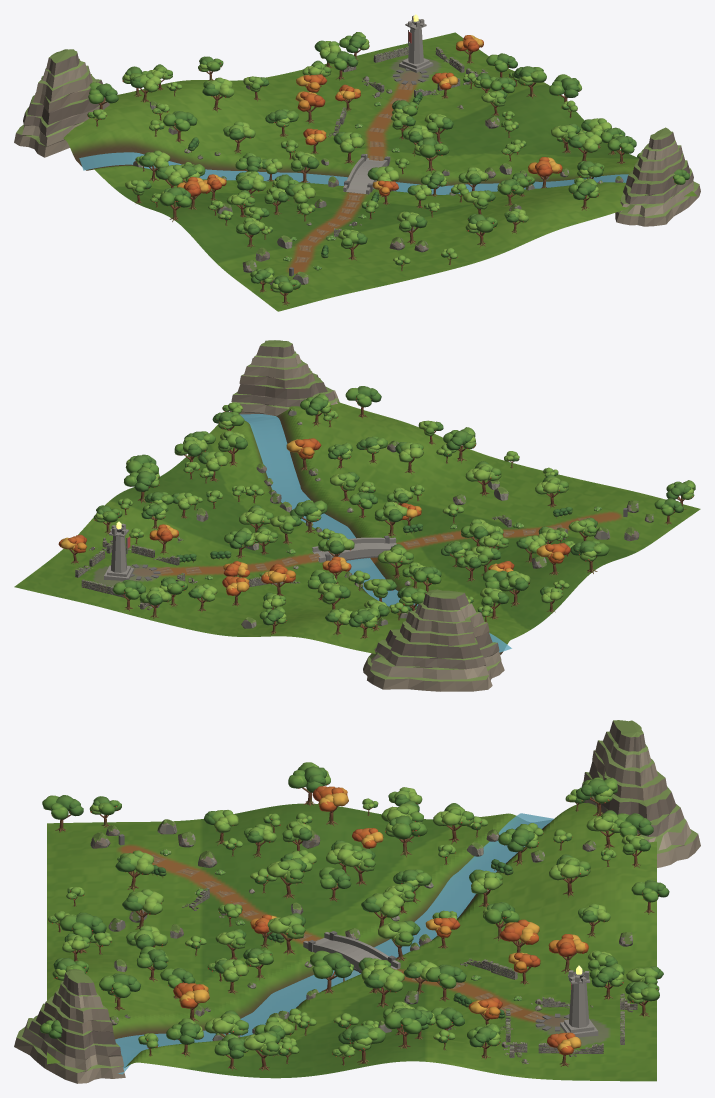
3 views of the same model, one above another, from view 1: azimuth 30°, elevation 25°; view 2: azimuth 150°, elevation 25°; view 3: azimuth 270°, elevation 25° (orthographic). The views are drawn at different scales.
Parts seen in each view (by area): view 1: Terrain, mountain_cliff_chunk_192, mountain_cliff_chunk_193, Stream_Water, Beacon_Tower, Bridge_Deck, apple_tree_mature_b_048, apple_tree_mature_b_129, apple_tree_mature_081, apple_tree_mature_b_110, apple_tree_mature_b_128, apple_tree_mature_b_070 (+20 smaller); view 2: Terrain, mountain_cliff_chunk_192, mountain_cliff_chunk_193, Stream_Water, Bridge_Deck, Beacon_Tower, apple_tree_mature_b_101, apple_tree_mature_b_048, apple_tree_mature_b_128, apple_tree_mature_b_110, apple_tree_mature_089, apple_tree_mature_087 (+11 smaller); view 3: Terrain, mountain_cliff_chunk_192, mountain_cliff_chunk_193, Stream_Water, Beacon_Tower, Bridge_Deck, apple_tree_mature_b_110, apple_tree_mature_b_048, apple_tree_mature_b_128, apple_tree_mature_b_129, apple_tree_mature_b_051, apple_tree_mature_089 (+42 smaller).
Boxes of the visible parts, bbox=[...] form: Terrain: bbox=[63, 32, 697, 311]; mountain_cliff_chunk_192: bbox=[14, 49, 109, 157]; mountain_cliff_chunk_193: bbox=[615, 127, 700, 226]; Stream_Water: bbox=[79, 152, 628, 194]; Beacon_Tower: bbox=[399, 15, 433, 72]; Bridge_Deck: bbox=[343, 154, 390, 194]; apple_tree_mature_b_048: bbox=[159, 187, 191, 221]; apple_tree_mature_b_129: bbox=[549, 74, 581, 108]; apple_tree_mature_081: bbox=[202, 77, 234, 112]; apple_tree_mature_b_110: bbox=[413, 137, 449, 172]; apple_tree_mature_b_128: bbox=[513, 66, 546, 98]; apple_tree_mature_b_070: bbox=[163, 111, 197, 143]; Terrain: bbox=[14, 401, 700, 654]; mountain_cliff_chunk_192: bbox=[363, 589, 504, 691]; mountain_cliff_chunk_193: bbox=[230, 340, 339, 417]; Stream_Water: bbox=[239, 414, 511, 652]; Bridge_Deck: bbox=[312, 537, 396, 562]; Beacon_Tower: bbox=[104, 523, 133, 580]; apple_tree_mature_b_101: bbox=[443, 427, 476, 462]; apple_tree_mature_b_048: bbox=[570, 540, 609, 573]; apple_tree_mature_b_128: bbox=[124, 467, 159, 502]; apple_tree_mature_b_110: bbox=[290, 500, 327, 533]; apple_tree_mature_089: bbox=[465, 461, 501, 496]; apple_tree_mature_087: bbox=[377, 544, 413, 579]; Terrain: bbox=[47, 803, 656, 1081]; mountain_cliff_chunk_192: bbox=[581, 720, 700, 867]; mountain_cliff_chunk_193: bbox=[14, 969, 125, 1083]; Stream_Water: bbox=[115, 813, 553, 1074]; Beacon_Tower: bbox=[560, 970, 598, 1037]; Bridge_Deck: bbox=[303, 932, 400, 971]; apple_tree_mature_b_110: bbox=[310, 950, 351, 993]; apple_tree_mature_b_048: bbox=[288, 762, 330, 806]; apple_tree_mature_b_128: bbox=[384, 1008, 427, 1048]; apple_tree_mature_b_129: bbox=[338, 1024, 385, 1064]; apple_tree_mature_b_051: bbox=[576, 777, 617, 816]; apple_tree_mature_089: bbox=[122, 889, 163, 929].
Size of the model in its own units: 88.6 by 18.76 by 90.11.
